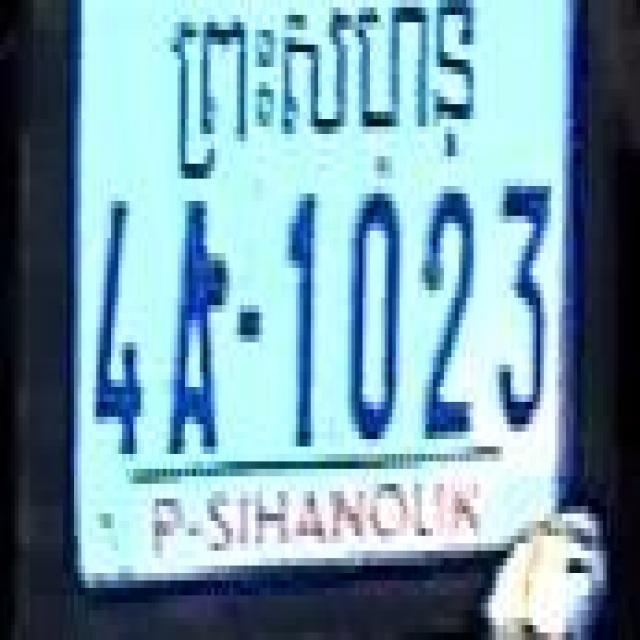Preah_Sihanouk: (170, 0, 474, 174)
